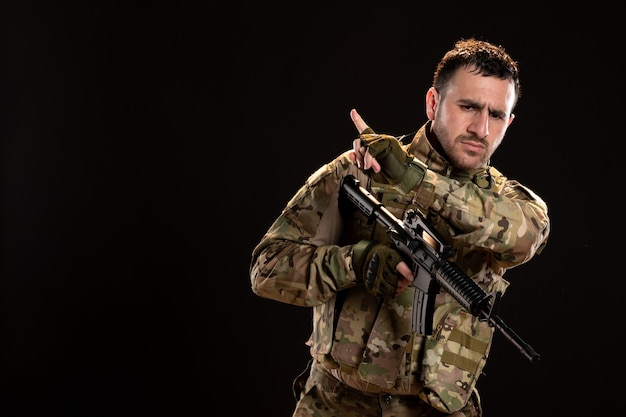gun: (336, 174, 548, 368)
